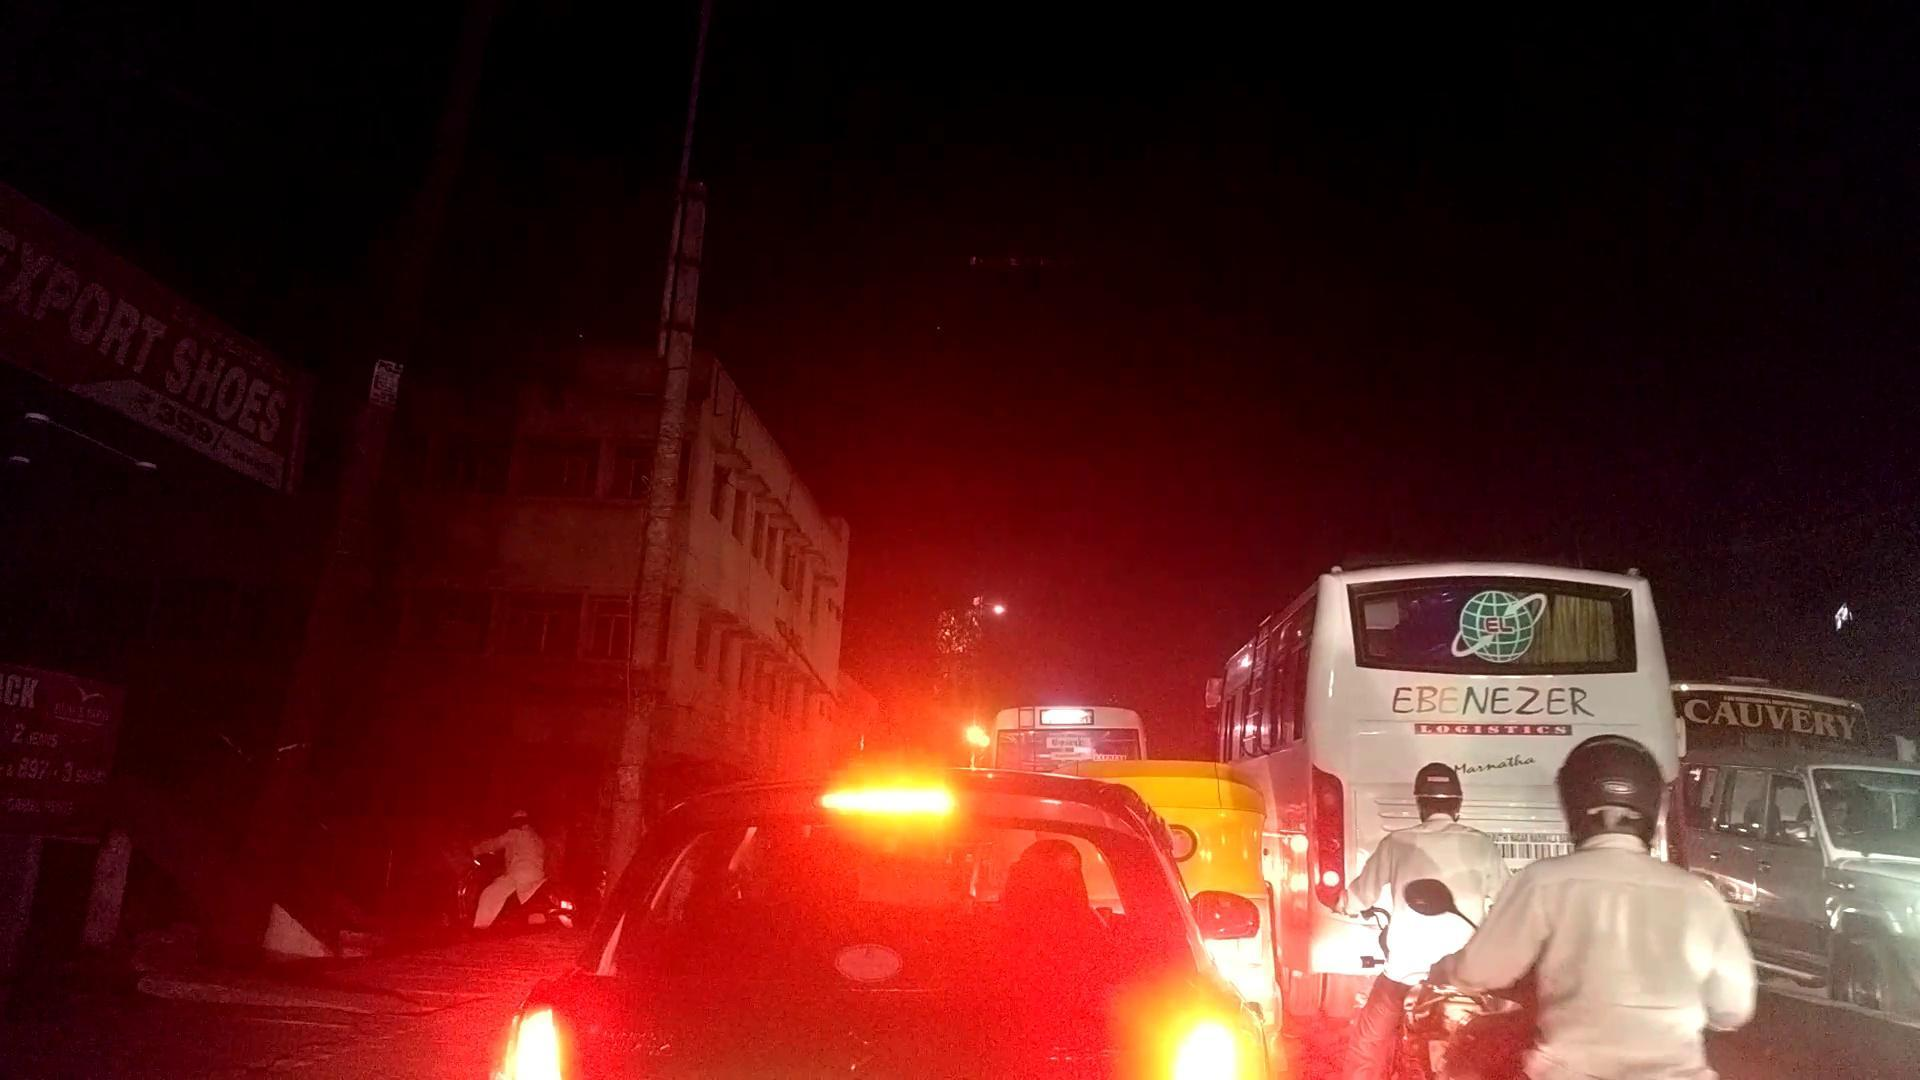on: (990, 502, 1495, 868)
